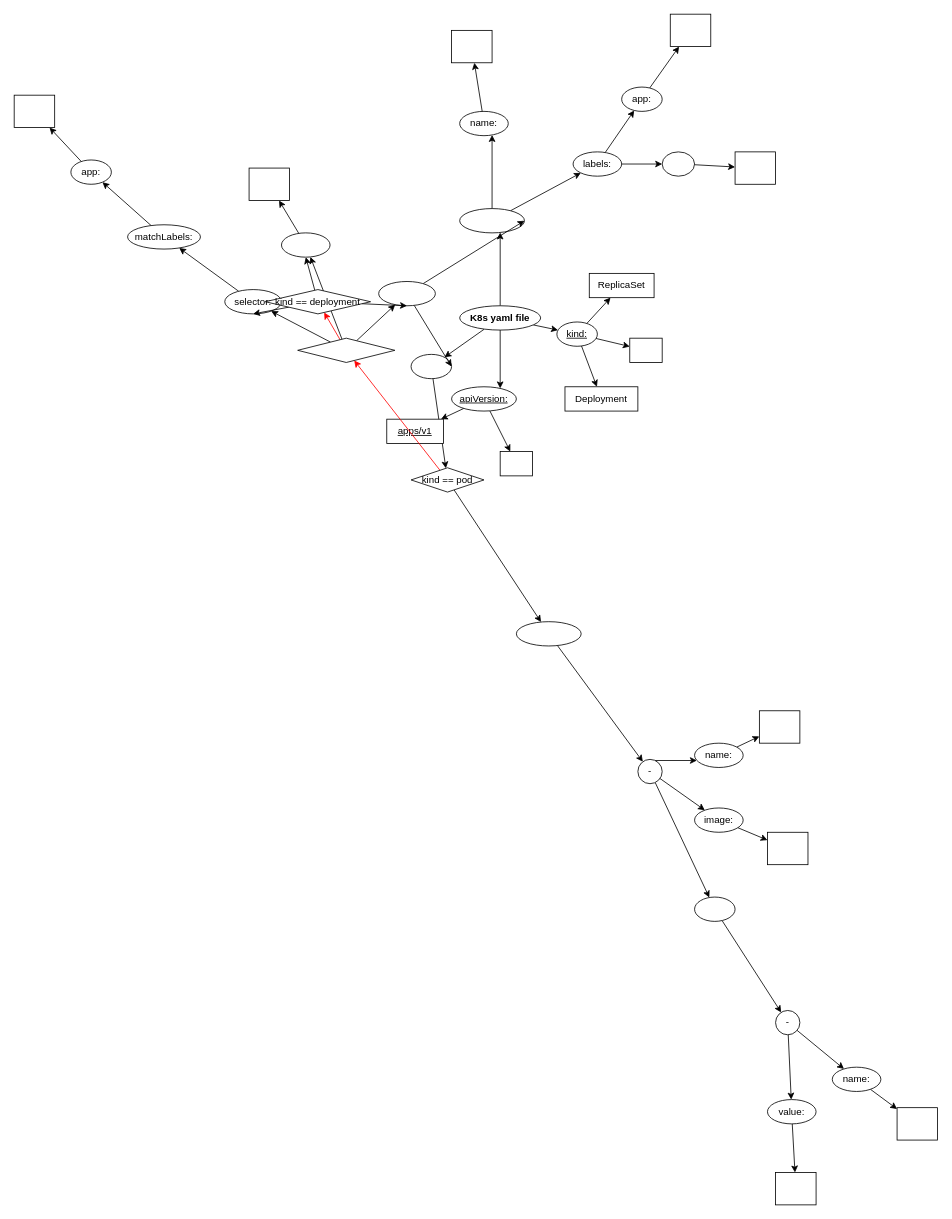
Some shapes in this 952 by 1219 pixel diagram are drawn without their labels. Each missing label, with the centre of its shape:
containers:: the point at 548,633
env:: the point at 714,908
kind == replicaset: the point at 346,349
metadata:: the point at 491,220
Pod: the point at 645,349
replica:: the point at 305,244
spec:: the point at 431,366
template:: the point at 406,293
tier:: the point at 678,163
v1: the point at 516,463
